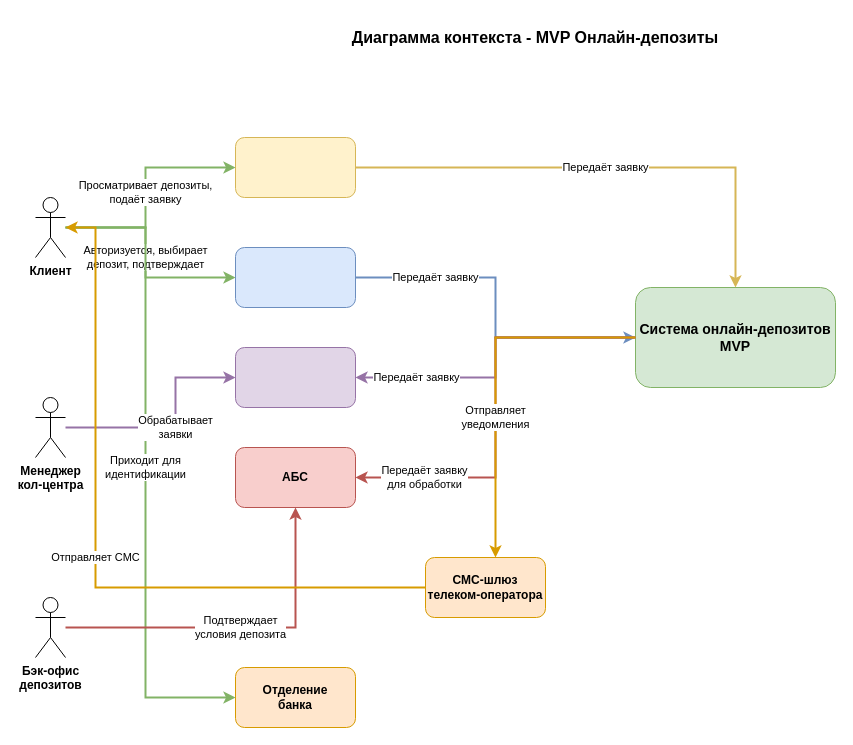
The diagram is 853 pixels wide and 745 high, and some of its shapes have lost their labels. The shapes that lost their labels are listed below. From the top down, each one's box as (x1, y1, x2, y2) in pixels, then its label:
(234, 136, 356, 198): Сайт банка
(234, 246, 356, 308): Интернет-банк
(234, 346, 356, 408): Система кол-центра
